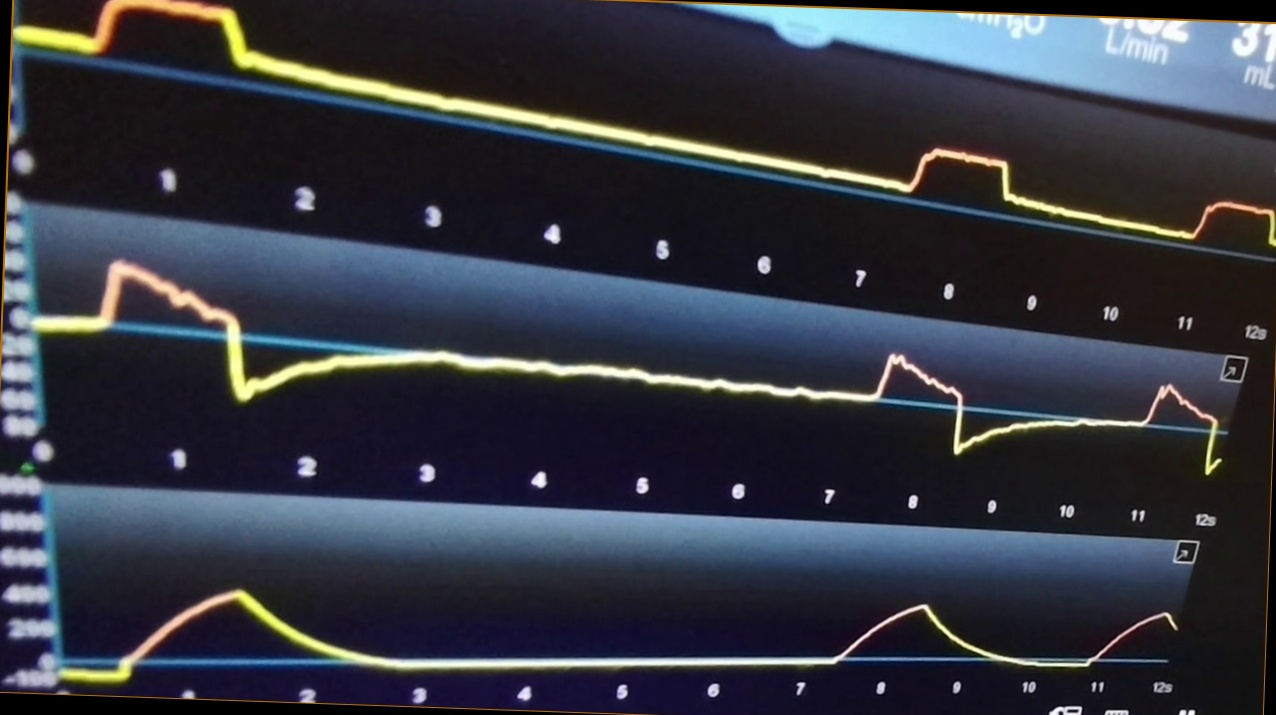Accumulation Flow: (43, 260, 1221, 477)
Volume: (64, 575, 1177, 683)
